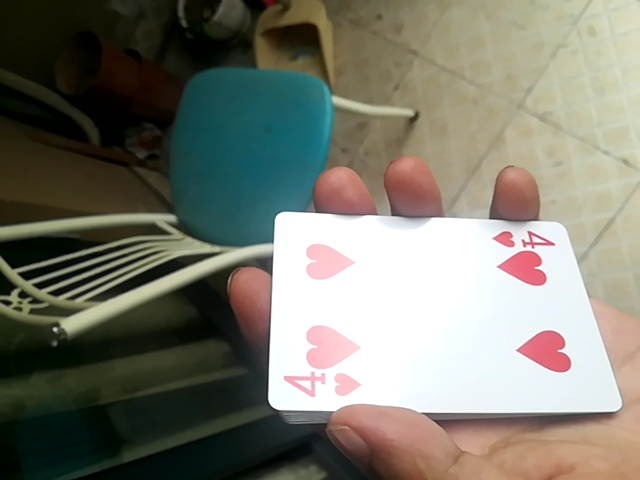hx 4: (282, 213, 620, 419)
